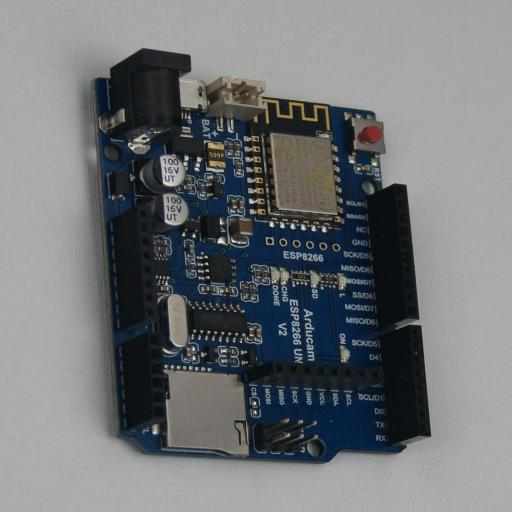Arduino Uno Camera Shield: (84, 48, 431, 464)
